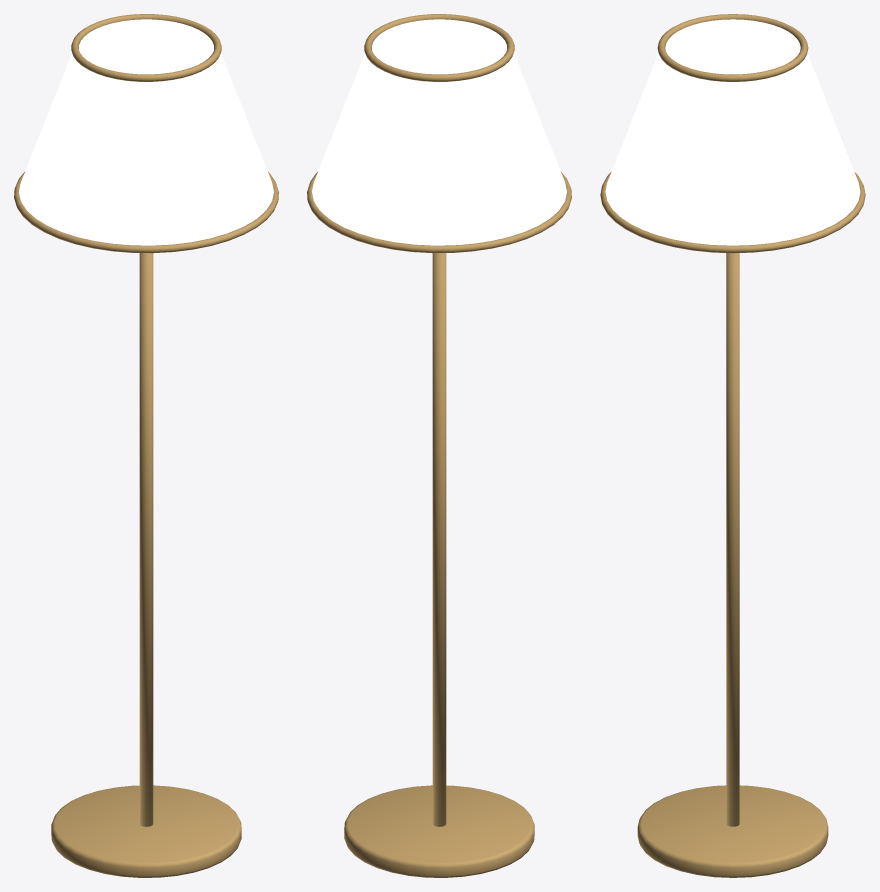
Rendered from furn_lamp.glb.
The picture shows the model from 3 angles, left to right: view 1: azimuth 30°, elevation 25°; view 2: azimuth 150°, elevation 25°; view 3: azimuth 270°, elevation 25°; orthographic projection.
Parts seen in each view (by area): view 1: Cone; view 2: Cone; view 3: Cone.
Part boxes in pixels (x1,y1,x2,y2): Cone: [14, 14, 278, 877]; Cone: [307, 14, 571, 877]; Cone: [600, 14, 865, 877].
Size of the model in its own units: 0.556 by 1.84 by 0.556.
